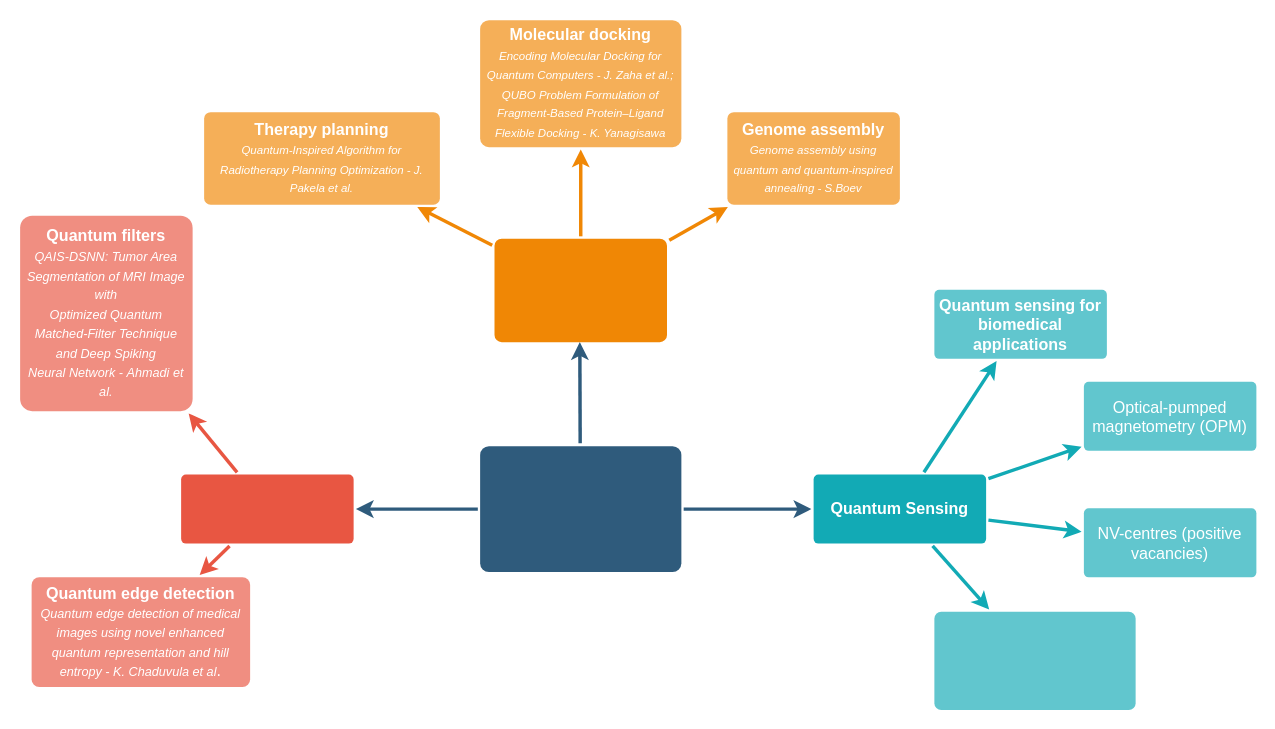
Some shapes in this 1275 by 729 pixel diagram are drawn without their labels. Each missing label, with the centre of its shape:
"Combinatorial Optimization Problems through Quantum Annealing" belongs at (x=580, y=290).
"Encoding and Image Processing" belongs at (x=267, y=508).
"Measuring and analyzing weak electric and magnetic fields, pressure, temperature" belongs at (x=1034, y=660).
"Quantum Computing & Technologies Applications in Healthcare" belongs at (x=580, y=509).
